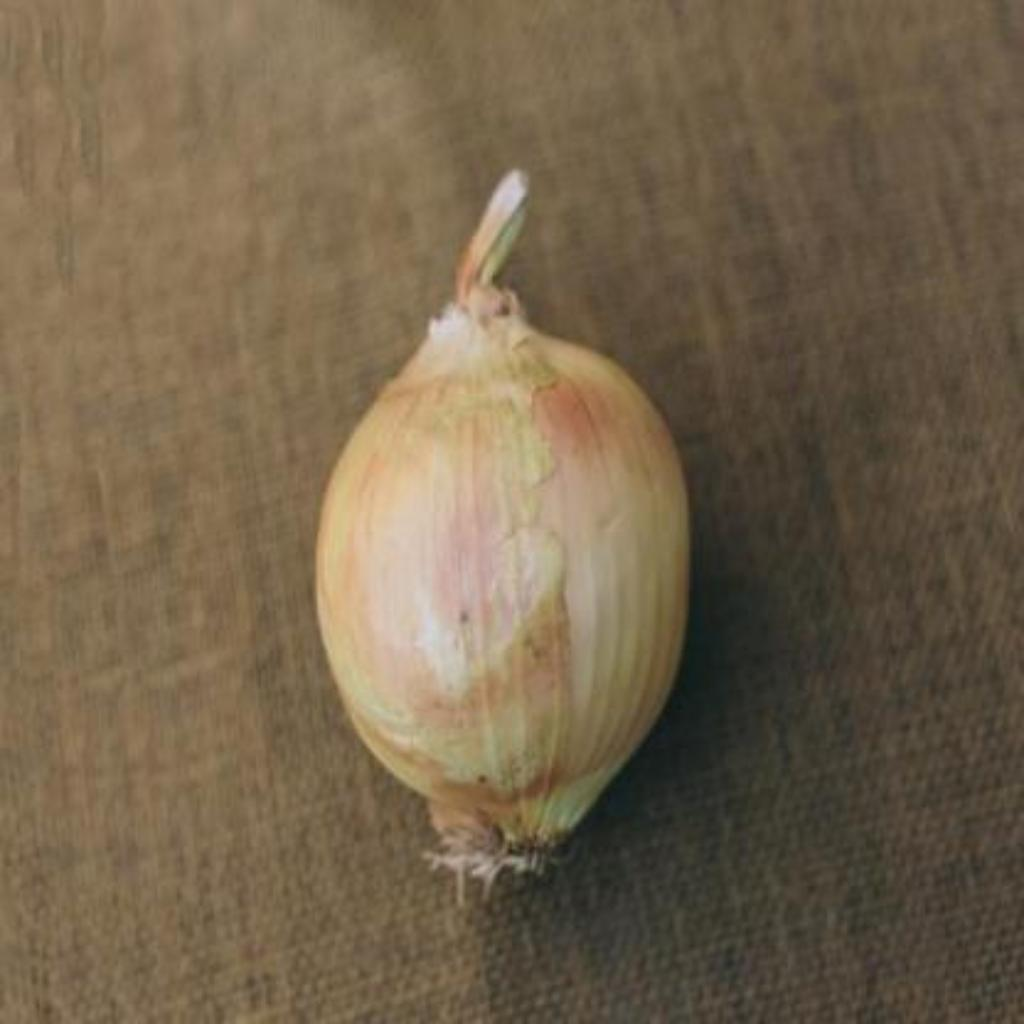Onion: (318, 172, 689, 875)
